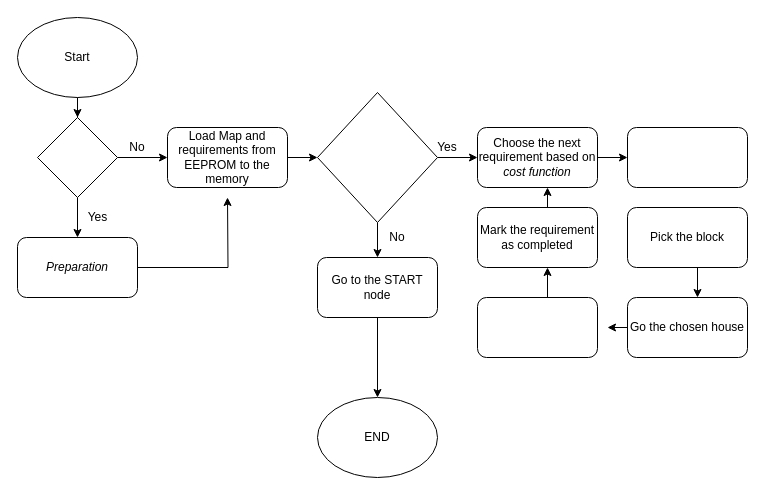
The diagram is 765 pixels wide and 495 high, and some of its shapes have lost their labels. Each missing label, with the centre of its shape:
"Are there requirements yet to complete?" belongs at point (377, 157).
"First time run?" belongs at point (77, 157).
"Go to the required warehouse using A* algorithm." belongs at point (687, 157).
"Place the block" belongs at point (537, 327).
